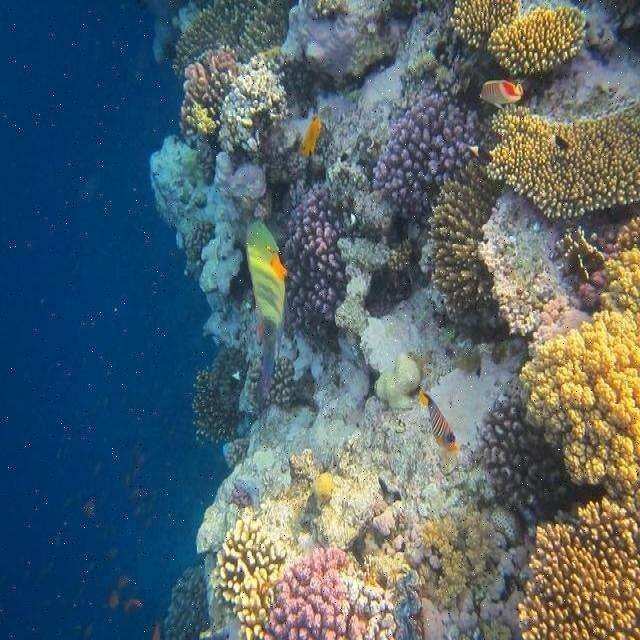fish: (245, 220, 288, 399), (418, 388, 458, 444), (479, 77, 523, 108), (300, 116, 324, 162)
reefs: (521, 249, 639, 496), (515, 493, 639, 639), (486, 101, 639, 215), (373, 90, 483, 216), (479, 390, 575, 522), (266, 545, 397, 639), (429, 157, 501, 311), (210, 504, 287, 639), (282, 188, 347, 338), (220, 55, 291, 152), (488, 8, 589, 75), (179, 44, 236, 135), (450, 0, 521, 47)
